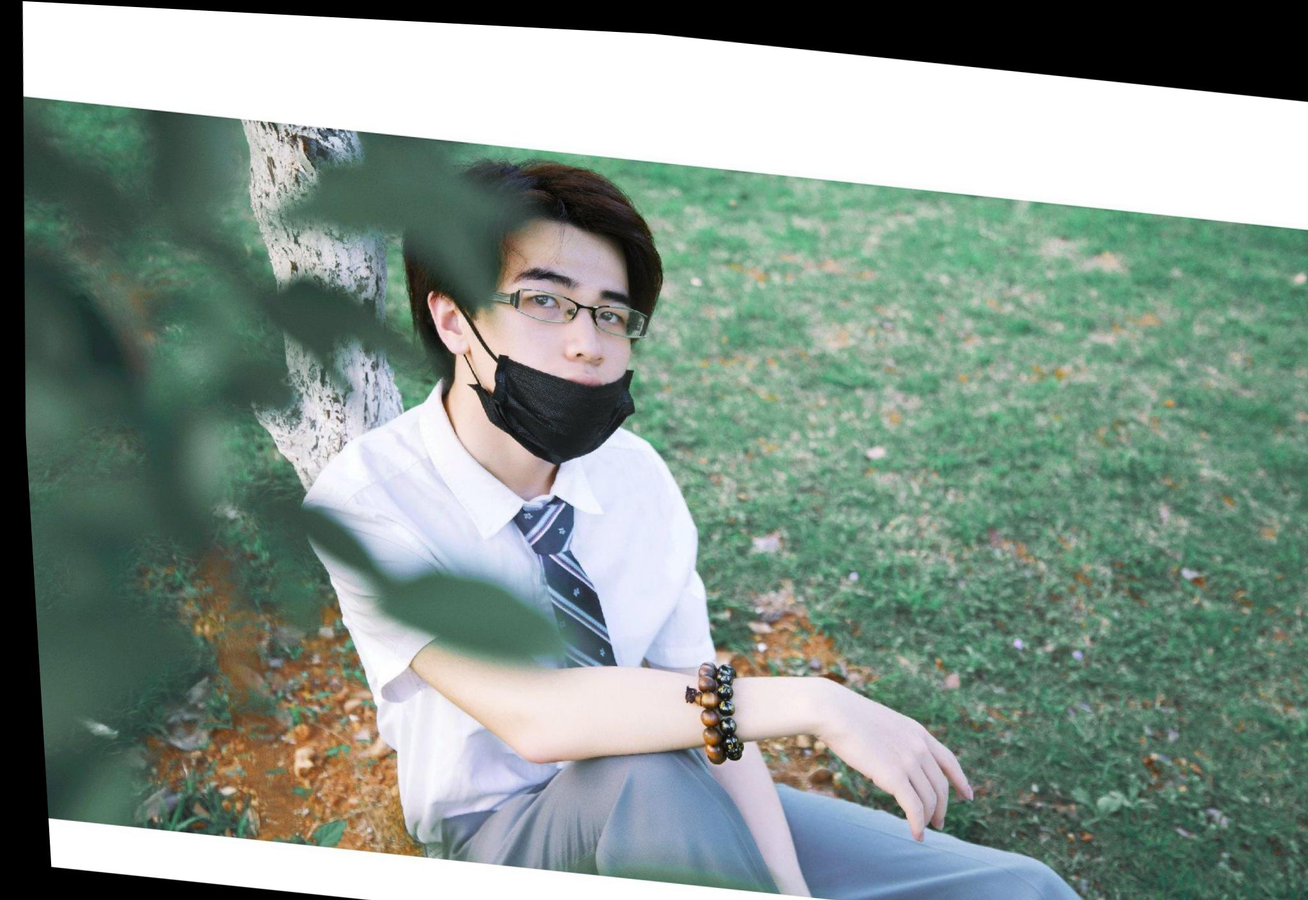WRONG: (475, 240, 643, 434)
